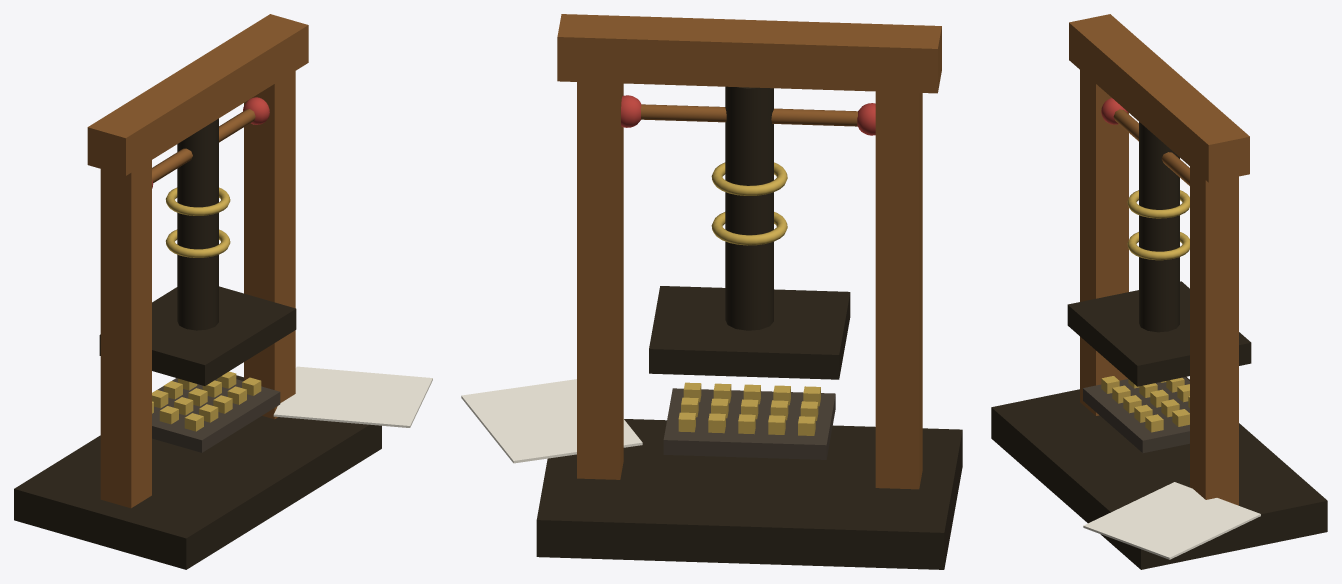
The model's file is printing_press.glb.
3 renders of one model, left to right at view 1: azimuth 30°, elevation 25°; view 2: azimuth 150°, elevation 25°; view 3: azimuth 270°, elevation 25°, orthographic. The views are drawn at different scales.
Size of the model in its own units: 2.07 by 1.95 by 1.46.
